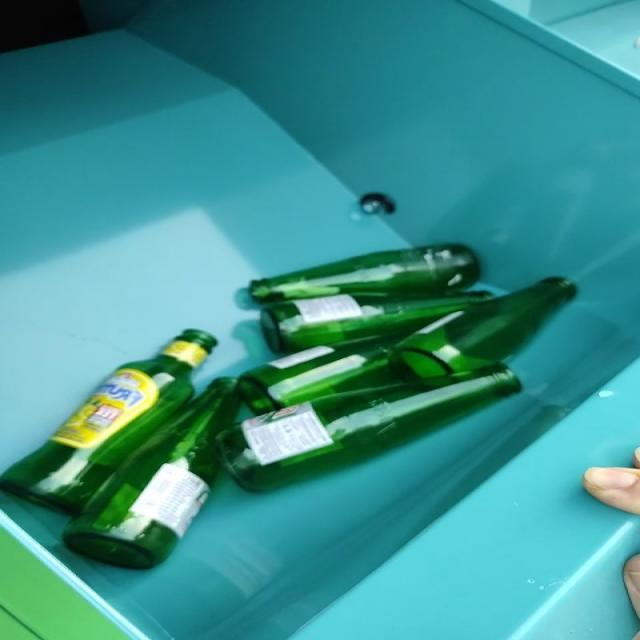Glass: (3, 244, 573, 569)
